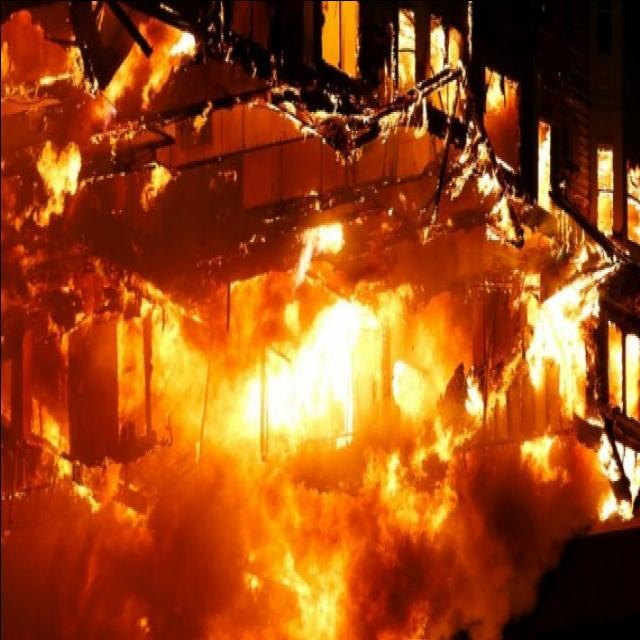Fire: (1, 0, 636, 636)
